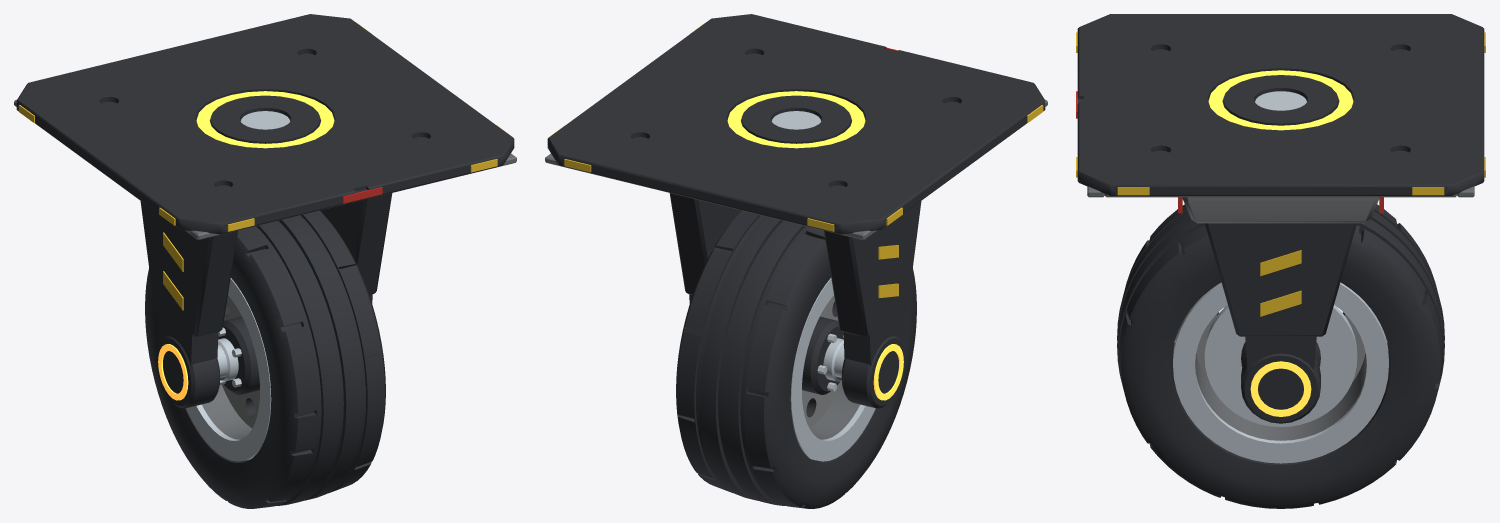
Rendered from R4M_WheelS_Fork_Road.glb.
3 renders of one model, left to right at view 1: azimuth 30°, elevation 25°; view 2: azimuth 150°, elevation 25°; view 3: azimuth 270°, elevation 25°, orthographic. The views are drawn at different scales.
Parts seen in each view (by area): view 1: R4M_WheelS_Fork_Road_Mount, R4M_WheelS_Fork_Road_Rotor; view 2: R4M_WheelS_Fork_Road_Mount, R4M_WheelS_Fork_Road_Rotor; view 3: R4M_WheelS_Fork_Road_Mount, R4M_WheelS_Fork_Road_Rotor.
Boxes of the visible parts, box(x1,y1,x2,y2) form: R4M_WheelS_Fork_Road_Mount: box(14, 14, 516, 408); R4M_WheelS_Fork_Road_Rotor: box(145, 210, 385, 508); R4M_WheelS_Fork_Road_Mount: box(545, 14, 1047, 408); R4M_WheelS_Fork_Road_Rotor: box(676, 210, 916, 508); R4M_WheelS_Fork_Road_Mount: box(1076, 14, 1485, 423); R4M_WheelS_Fork_Road_Rotor: box(1117, 204, 1444, 508).
Bounding box in the file's own units: 0.5126 × 0.54 × 0.5126.
